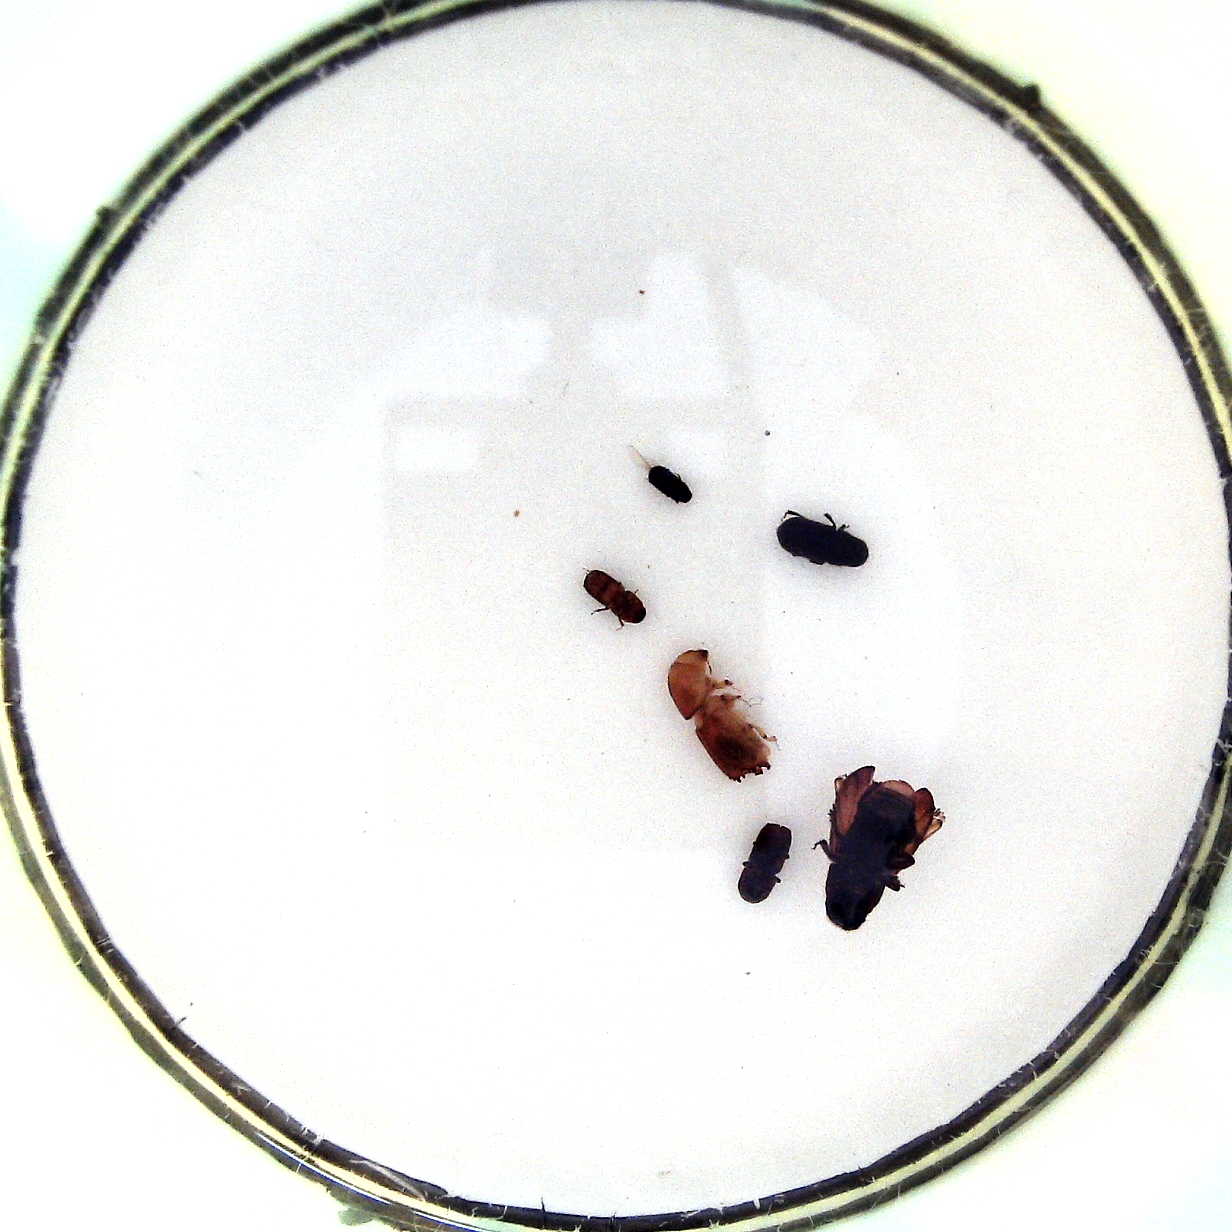Boerner: (666, 644, 777, 787)
Leconte: (807, 762, 948, 934)
Linnaeus: (731, 822, 799, 908)
acuminatus: (581, 566, 654, 639)
armandi: (772, 502, 871, 569)
coleoptera: (643, 448, 694, 510)
